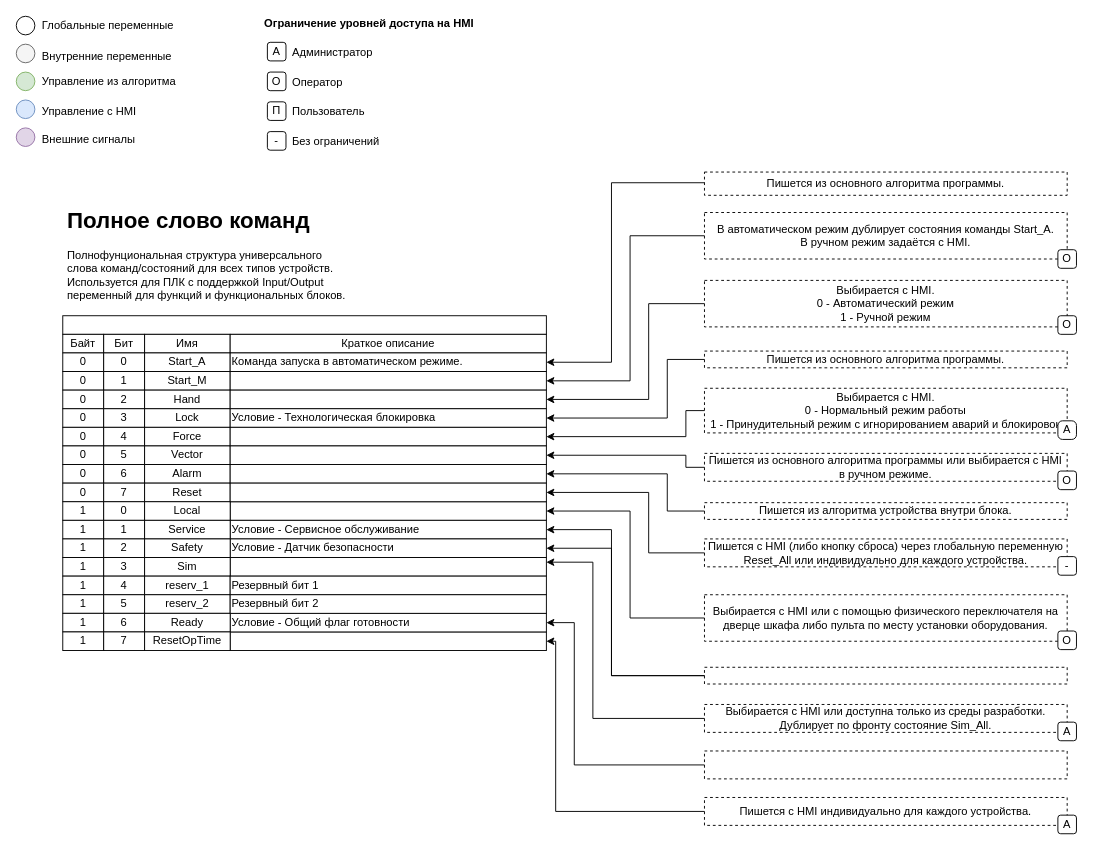
The diagram is 1093 pixels wide and 850 high, and some of its shapes have lost their labels. The shapes that lost their labels are listed below. From the top down, each one's centre as x and y in pixels, then its label:
point 304,324: CMD
point 387,380: Команда запуска в ручном режиме.
point 387,399: Режим работы - Ручной
point 387,436: Режим работы - Принудительный
point 387,455: Параметр - Направление вращения
point 387,473: Условие - Неисправность оборудования
point 387,492: Команда - Сброс аварий
point 387,510: Режим работы - Местный
point 387,566: Режим работы - Симуляция
point 387,641: Команда - Сброс времени наработки
point 885,675: Читается с входа ПЛК при наличии сигнала в проекте.
point 885,764: Пишется из алгоритма внутри блока или из основного алгоритма программы.
